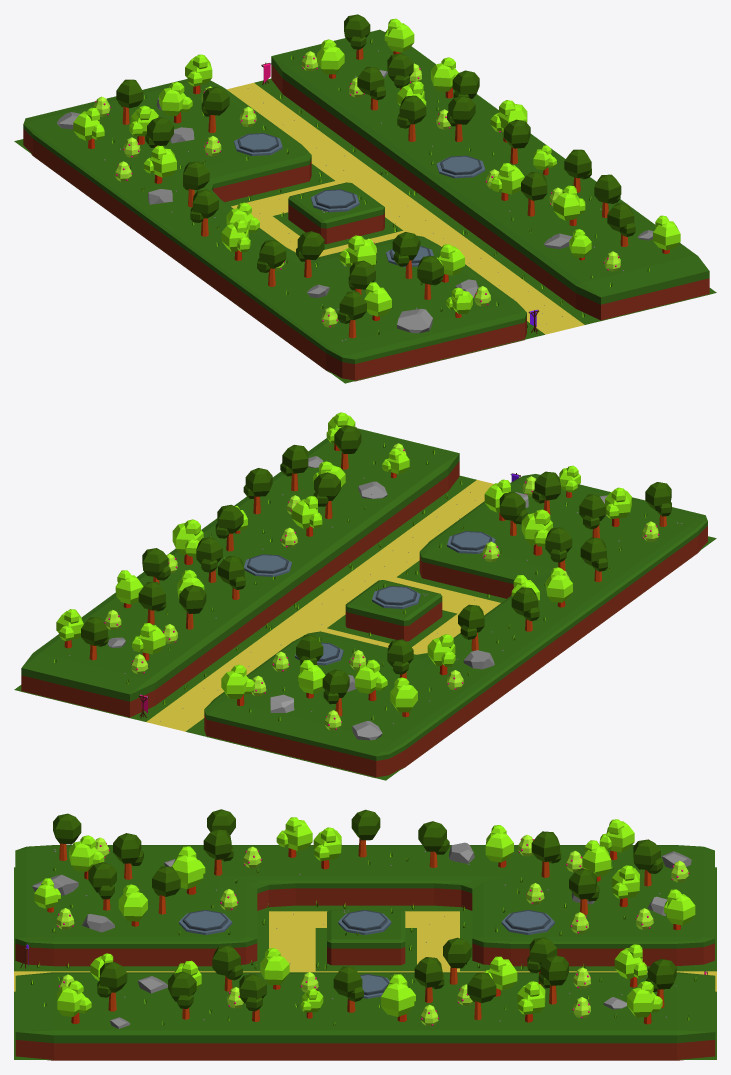
File: map.obj
3 views of the same model, one above another, from view 1: azimuth 30°, elevation 25°; view 2: azimuth 150°, elevation 25°; view 3: azimuth 270°, elevation 25° (orthographic). The views are drawn at different scales.
Visible parts, largest first — view 1: Cube.001, Cube.002, Plane, Cube.003, Platform.001, Platform.003, Platform.002, Cube.004, Leaves.035, Leaves.029, Leaves.084, Leaves.033 (+21 smaller); view 2: Cube.001, Cube.002, Plane, Cube.003, Platform.003, Platform.002, Platform.004, Leaves.045, Leaves, Leaves.029, Leaves.074, Leaves.089 (+13 smaller); view 3: Cube.001, Cube.002, Plane, Cube.003, Platform.001, Platform.003, Platform.004, Leaves.024, Leaves.080, Leaves.037, Leaves.041, Leaves.067 (+39 smaller).
Part boxes in pixels (box(x1,y1,x2,y2)): Cube.001: box(23, 79, 526, 381); Cube.002: box(271, 29, 709, 320); Plane: box(14, 78, 716, 383); Cube.003: box(288, 182, 384, 244); Platform.001: box(234, 133, 282, 155); Platform.003: box(311, 189, 359, 212); Platform.002: box(436, 155, 485, 178); Cube.004: box(397, 308, 432, 333); Leaves.035: box(503, 119, 530, 148); Leaves.029: box(564, 149, 591, 178); Leaves.084: box(116, 79, 143, 108); Leaves.033: box(594, 174, 621, 203); Cube.001: box(204, 474, 707, 777); Cube.002: box(21, 428, 459, 717); Plane: box(14, 475, 716, 780); Cube.003: box(345, 580, 442, 641); Platform.003: box(372, 586, 420, 608); Platform.002: box(244, 554, 291, 576); Platform.004: box(447, 531, 495, 553); Leaves.045: box(179, 585, 206, 613); Leaves: box(334, 425, 361, 453); Leaves.029: box(245, 468, 272, 496); Leaves.074: box(546, 575, 572, 602); Leaves.089: box(390, 684, 417, 712); Cube.001: box(15, 845, 714, 966); Cube.002: box(15, 972, 715, 1060); Plane: box(14, 867, 716, 1059); Cube.003: box(327, 910, 405, 965); Platform.001: box(501, 910, 554, 934); Platform.003: box(338, 910, 391, 934); Platform.004: box(179, 910, 232, 934); Leaves.024: box(381, 983, 414, 1016); Leaves.080: box(172, 855, 203, 889); Leaves.037: box(414, 957, 442, 987); Leaves.041: box(467, 972, 496, 1003); Leaves.067: box(203, 829, 231, 859).
Size of the model in its own units: 55.02 by 9.65 by 84.83.
